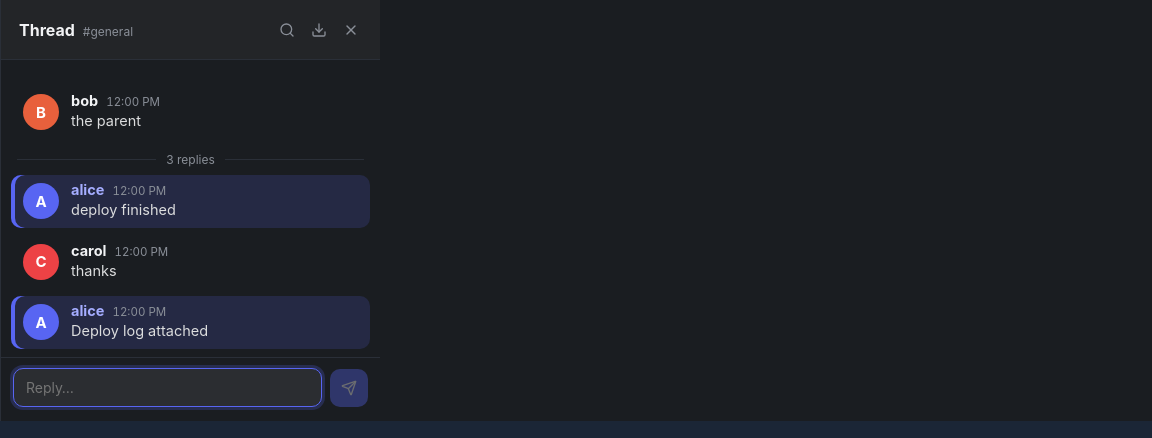
Test: export › closes the menu on a click elsewhere
Click the button named "Export thread" at [319, 30], box [304, 14, 334, 44]
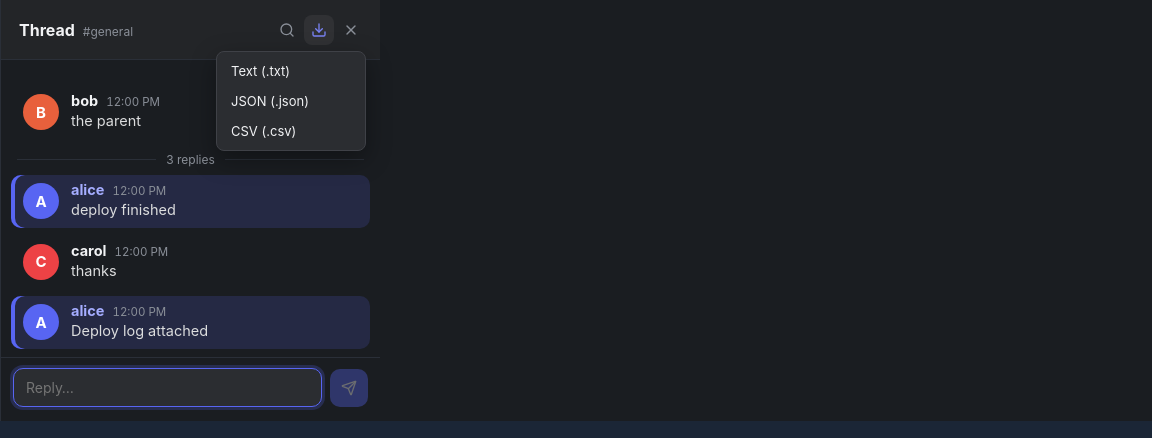
Press the mouse on the element that starts with "Thread" at [576, 211], box [0, 0, 1151, 422]
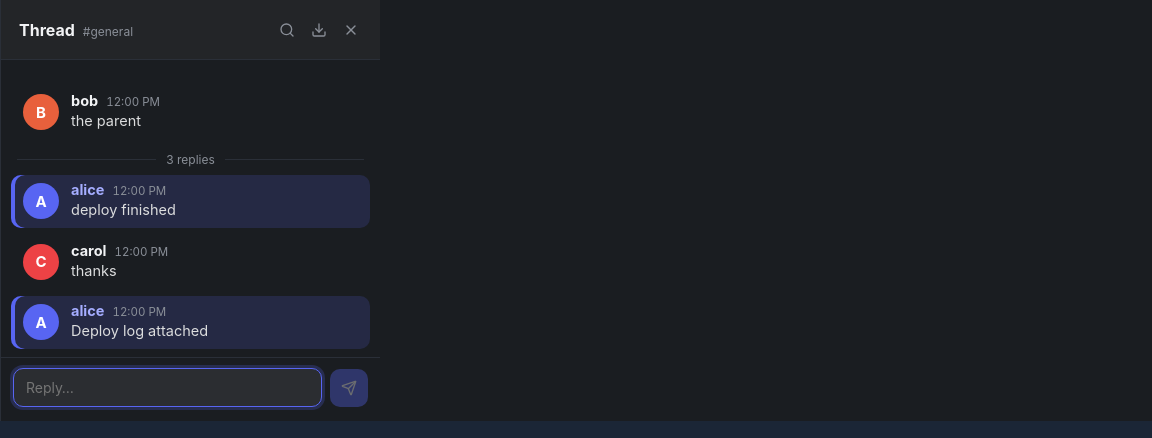
Check: the menu item "Text (.txt)" is gone
